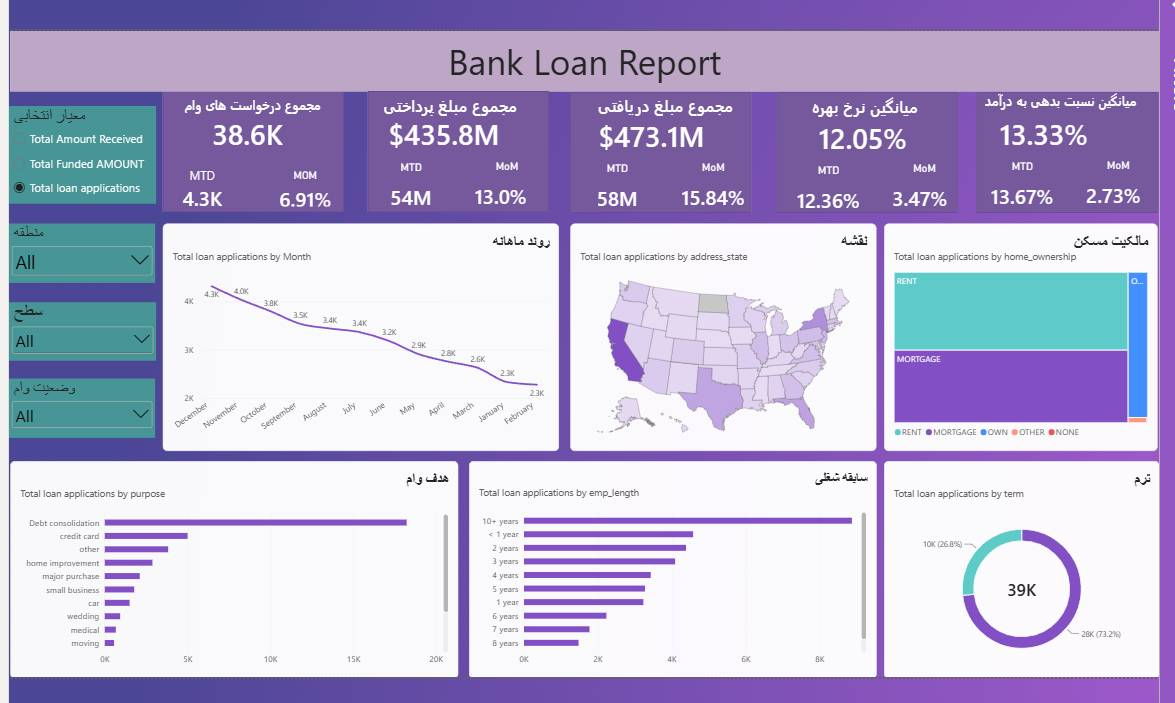

This screenshot's page, from the dashboard's own definition file:
{"tool":"powerbi","page":{"name":"Page 2","canvas":[1920,1080],"ordinal":1},"visuals":[{"type":"cardVisual","title":"MTD","fields":{"Data":["financial_loan.MTD Avg DTI"]},"box":[1618.6,216.3,144.9,82.5],"z":0,"group":"g5"},{"type":"cardVisual","title":"MTD","fields":{"Data":["financial_loan.MTD Funded Amount"]},"box":[599.8,218.2,144.9,82.5],"z":0,"group":"g2"},{"type":"cardVisual","title":"MTD","fields":{"Data":["financial_loan.MTD Amount Received"]},"box":[942.5,220,144.9,82.5],"z":0,"group":"g3"},{"type":"cardVisual","title":"MTD","fields":{"Data":["financial_loan.MTD Avg Int Rate"]},"box":[1296.8,221.8,144.9,82.5],"z":0,"group":"g4"},{"type":"cardVisual","fields":{"Data":["financial_loan.MTD Loan Application"]},"box":[256.8,227.3,132.1,73.4],"z":0,"group":"g1"},{"type":"treemap","title":"مالکیت مسکن ","fields":{"Group":["financial_loan.home_ownership"],"Values":["financial_loan.Total loan applications"]},"box":[1460.9,321.4,457,379.8],"z":0},{"type":"cardVisual","title":"MoM","fields":{"Data":["financial_loan.MoM DTI"]},"box":[1780.4,213,139.4,82.5],"z":1000,"group":"g5"},{"type":"cardVisual","title":"MoM","fields":{"Data":["financial_loan.MoM Funded Amount"]},"box":[761.6,214.8,139.4,82.5],"z":1000,"group":"g2"},{"type":"cardVisual","title":"MoM","fields":{"Data":["financial_loan.MoM Amount Received"]},"box":[1104.3,216.7,139.4,82.5],"z":1000,"group":"g3"},{"type":"cardVisual","title":"MoM","fields":{"Data":["financial_loan.MoM Avg Interest Rate"]},"box":[1458.6,218.5,139.4,82.5],"z":1000,"group":"g4"},{"type":"cardVisual","title":"MOM","fields":{"Data":["financial_loan.MoM Loan Application"]},"box":[433.6,231,121.1,64.2],"z":1000,"group":"g1"},{"type":"shapeMap","title":"نقشه","fields":{"Category":["financial_loan.address_state"],"Value":["financial_loan.Total loan applications"]},"box":[937,321.4,511.3,379.8],"z":1000},{"type":"shape","box":[256.8,100.9,302.6,201.7],"z":2000},{"type":"cardVisual","fields":{"Data":["financial_loan.Total loan applications"]},"box":[324.2,139.5,152.2,64.2],"z":2000,"group":"g1"},{"type":"cardVisual","fields":{"Data":["financial_loan.Avg DTI"]},"box":[1637.2,139.6,221.9,62.4],"z":2000,"group":"g5"},{"type":"cardVisual","fields":{"Data":["financial_loan.Total Funded AMOUNT"]},"box":[618.4,141.4,221.9,62.4],"z":2000,"group":"g2"},{"type":"cardVisual","fields":{"Data":["financial_loan.Total Amount Received"]},"box":[961.1,143.3,221.9,62.4],"z":2000,"group":"g3"},{"type":"cardVisual","fields":{"Data":["financial_loan.Avg Interest Rate"]},"box":[1315.4,145.1,221.9,62.4],"z":2000,"group":"g4"},{"type":"shape","box":[1.4,0,1918.6,100.9],"z":3000},{"type":"textbox","box":[1619.5,102.7,273.4,41.7],"z":3000,"group":"g5"},{"type":"textbox","box":[943.4,106.4,273.4,41.7],"z":3000,"group":"g3"},{"type":"textbox","box":[607.5,107.2,273.4,41.7],"z":3000,"group":"g2"},{"type":"textbox","box":[1297.7,108.2,273.4,41.7],"z":3000,"group":"g4"},{"type":"textbox","box":[273.7,109,273.4,41.7],"z":3000,"group":"g1"},{"type":"textbox","box":[1.4,10,1918.6,100.9],"z":4000},{"type":"group","id":"g1","title":"Group 1","box":[256.8,109,297.8,191.7],"z":5000},{"type":"shape","box":[598,100.9,302.6,201.7],"z":6000},{"type":"shape","box":[937.3,102.7,302.6,201.7],"z":7000},{"type":"shape","box":[1282.1,102.7,302.6,201.7],"z":8000},{"type":"shape","box":[1616,102,302.6,201.7],"z":9000},{"type":"group","id":"g2","title":"Group 1","box":[599.8,107.2,301.2,193.5],"z":10000},{"type":"group","id":"g3","title":"Group 1","box":[942.5,106.4,300.8,196.3],"z":11000},{"type":"group","id":"g4","title":"Group 1","box":[1296.8,108.2,301.2,196.2],"z":12000},{"type":"group","id":"g5","title":"Group 1","box":[1618.6,102.7,301.2,196.2],"z":13000},{"type":"lineChart","title":"روند ماهانه ","fields":{"Category":["Date table.Month"],"Y":["financial_loan.Total loan applications"]},"box":[256.7,321.4,661.6,379.8],"z":17000},{"type":"clusteredBarChart","title":"هدف وام","fields":{"Category":["financial_loan.purpose"],"Y":["financial_loan.Total loan applications"]},"box":[2.1,717.9,748.4,363.2],"z":18000},{"type":"clusteredBarChart","title":"سابقه شغلی ","fields":{"Category":["financial_loan.emp_length"],"Y":["financial_loan.Total loan applications"]},"box":[768,717.9,680.5,363.2],"z":19000},{"type":"donutChart","title":"ترم ","fields":{"Category":["financial_loan.term"],"Y":["financial_loan.Total loan applications"]},"box":[1460.9,717.9,460.4,363.2],"z":20000},{"type":"slicer","fields":{"Values":["financial_loan.Good vs Bad Loan"]},"box":[0,579.6,244,99],"z":21001},{"type":"slicer","fields":{"Values":["financial_loan.grade"]},"box":[0,453.1,245.8,97.2],"z":21002},{"type":"slicer","fields":{"Values":["financial_loan.address_state"]},"box":[0,321,244,99],"z":21003},{"type":"slicer","fields":{"Values":["Parameter.Parameter"]},"box":[0,124.7,245.8,163.2],"z":21004}]}

Visuals, with their boxes in screenshot pixels (x1, y1, x2, y2):
"MTD" cardVisual: <box>977,155,1064,205</box>
"MTD" cardVisual: <box>362,156,449,206</box>
"MTD" cardVisual: <box>569,157,656,207</box>
"MTD" cardVisual: <box>783,158,870,208</box>
cardVisual - financial_loan.MTD Loan Application: <box>155,162,235,206</box>
"مالکیت مسکن " treemap: <box>882,218,1157,448</box>
"MoM" cardVisual: <box>1075,153,1159,203</box>
"MoM" cardVisual: <box>460,154,544,204</box>
"MoM" cardVisual: <box>666,155,751,205</box>
"MoM" cardVisual: <box>880,156,964,206</box>
"MOM" cardVisual: <box>262,164,335,203</box>
"نقشه" shapeMap: <box>565,218,874,448</box>
shape: <box>155,85,338,207</box>
cardVisual - financial_loan.Total loan applications: <box>196,109,288,147</box>
cardVisual - financial_loan.Avg DTI: <box>988,109,1122,146</box>
cardVisual - financial_loan.Total Funded AMOUNT: <box>373,110,507,147</box>
cardVisual - financial_loan.Total Amount Received: <box>580,111,714,149</box>
cardVisual - financial_loan.Avg Interest Rate: <box>794,112,928,150</box>
shape: <box>1,24,1159,85</box>
textbox: <box>977,86,1142,112</box>
textbox: <box>569,89,734,114</box>
textbox: <box>367,89,532,114</box>
textbox: <box>783,90,948,115</box>
textbox: <box>165,90,330,115</box>
textbox: <box>1,31,1159,91</box>
"Group 1" group: <box>155,90,335,206</box>
shape: <box>361,85,544,207</box>
shape: <box>566,86,748,208</box>
shape: <box>774,86,956,208</box>
shape: <box>975,86,1158,208</box>
"Group 1" group: <box>362,89,544,206</box>
"Group 1" group: <box>569,89,750,207</box>
"Group 1" group: <box>783,90,964,208</box>
"Group 1" group: <box>977,86,1159,205</box>
"روند ماهانه " lineChart: <box>155,218,554,448</box>
"هدف وام" clusteredBarChart: <box>1,458,453,677</box>
"سابقه شغلی " clusteredBarChart: <box>464,458,874,677</box>
"ترم " donutChart: <box>882,458,1160,677</box>
slicer - financial_loan.Good vs Bad Loan: <box>0,374,147,434</box>
slicer - financial_loan.grade: <box>0,298,148,357</box>
slicer - financial_loan.address_state: <box>0,218,147,278</box>
slicer - Parameter.Parameter: <box>0,100,148,198</box>
